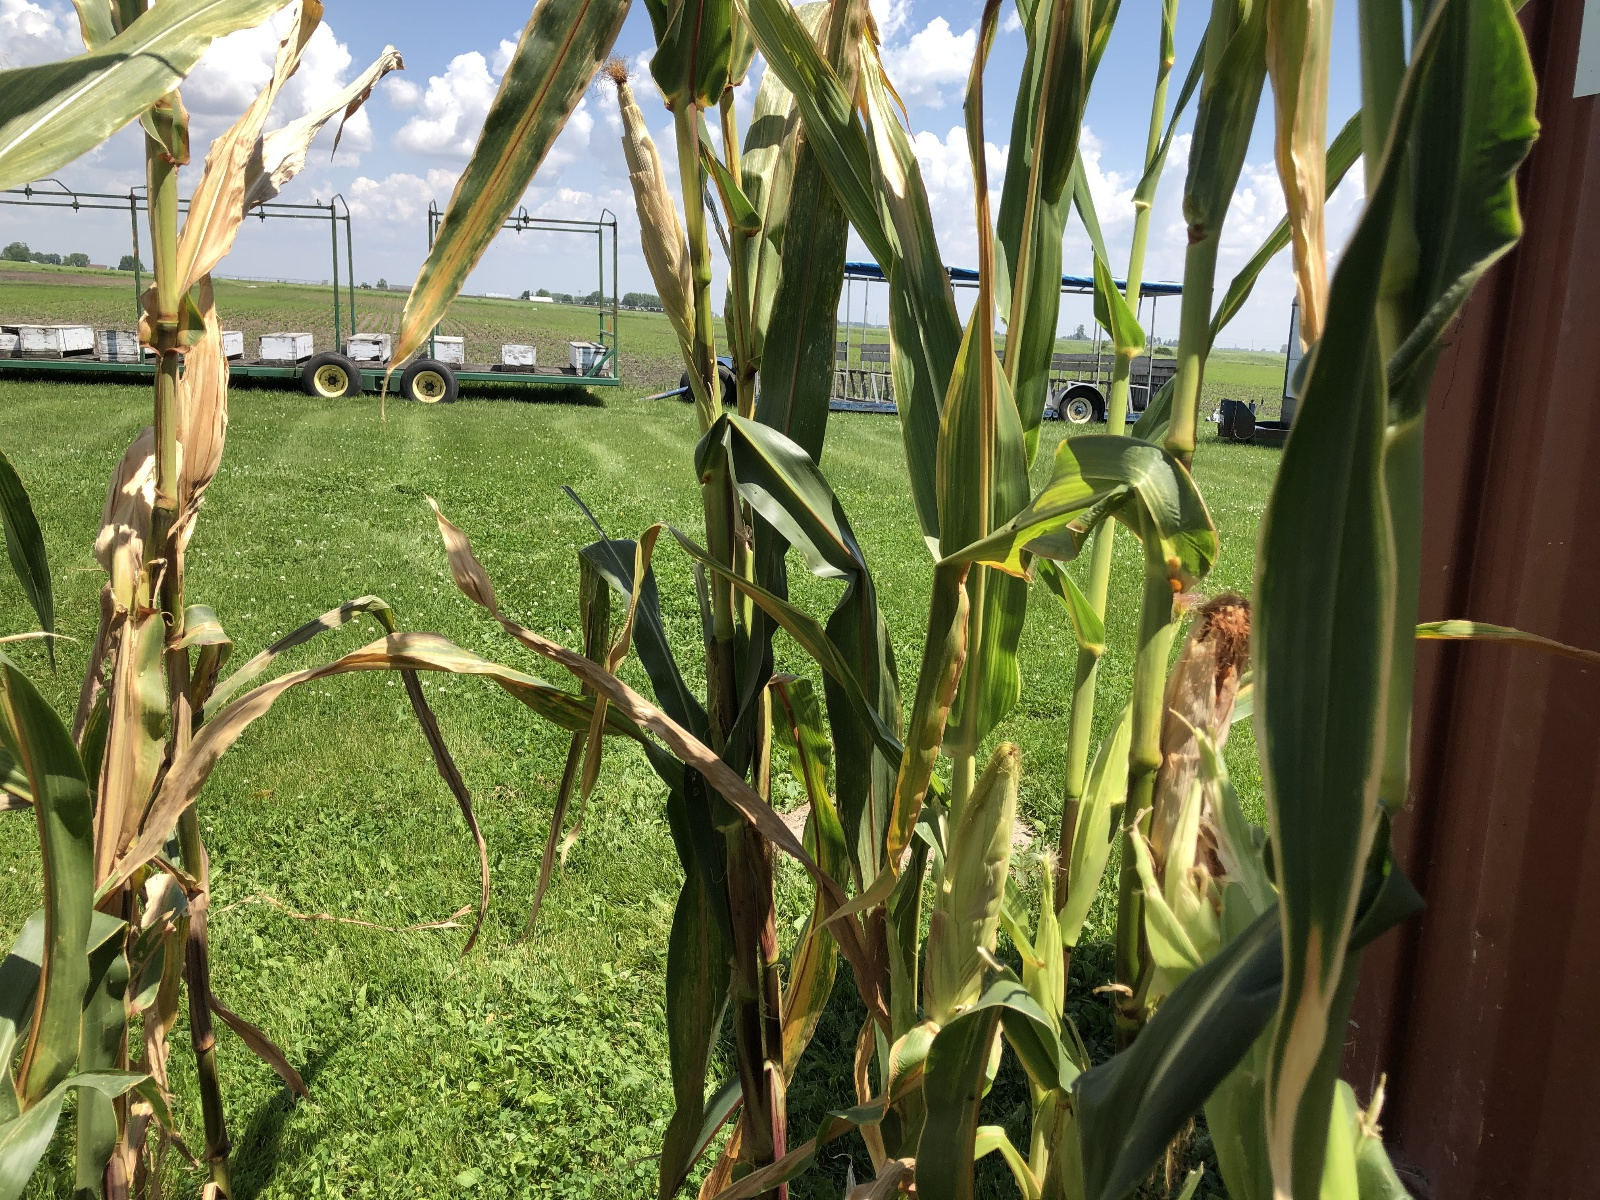ear: (917, 737, 1029, 1021), (598, 50, 700, 326), (1155, 584, 1245, 862), (176, 279, 232, 484)
